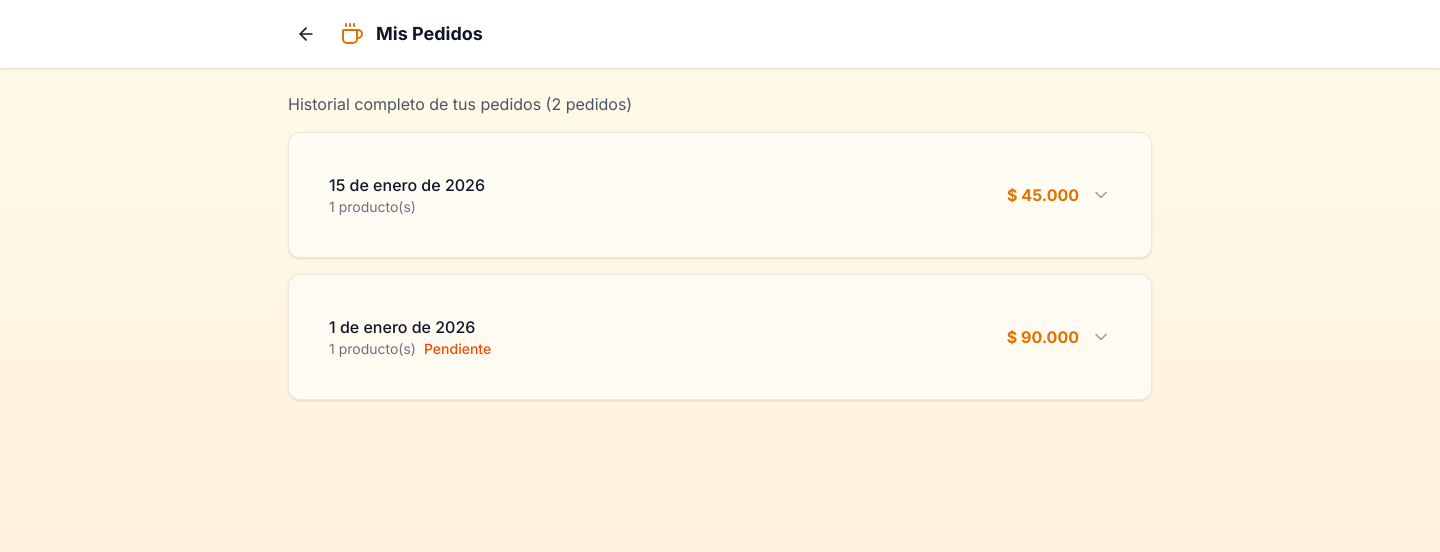
it: PortalPedidosPage › Order Expansion › should expand order details when clicked
Check: the text "15 de enero de 2026" is shown, box left=329, top=173, right=485, bottom=197
Step 1. Click the text "15 de enero de 2026 1 producto(s) $ 45.000" → (407, 185), box left=329, top=175, right=1111, bottom=215
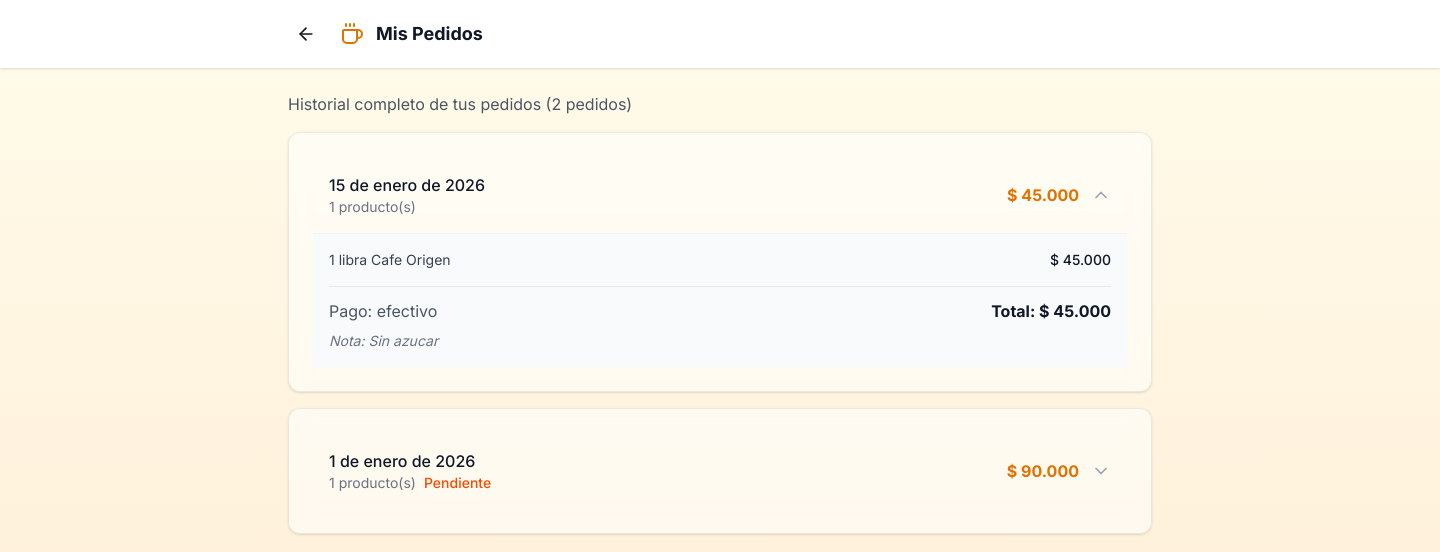
Check: the text "1 libra Cafe Origen" is shown, box left=329, top=250, right=451, bottom=270
